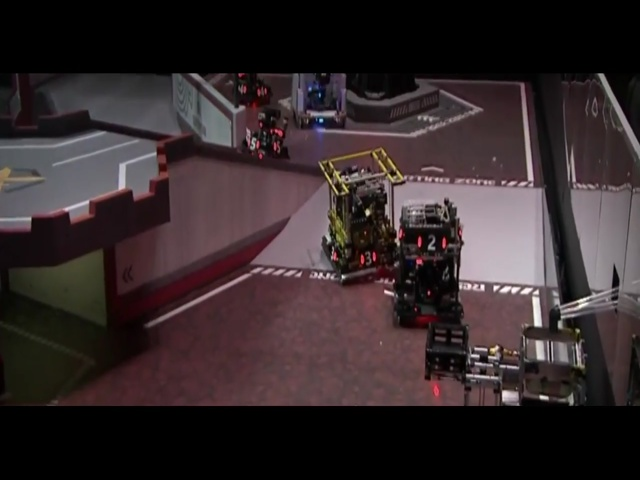bluePlate: (383, 325, 415, 356), (261, 162, 293, 181), (131, 202, 154, 224), (333, 326, 349, 351), (306, 137, 323, 156), (332, 138, 344, 156)
redPlate: (131, 323, 181, 358), (224, 158, 247, 188), (193, 312, 208, 346)
